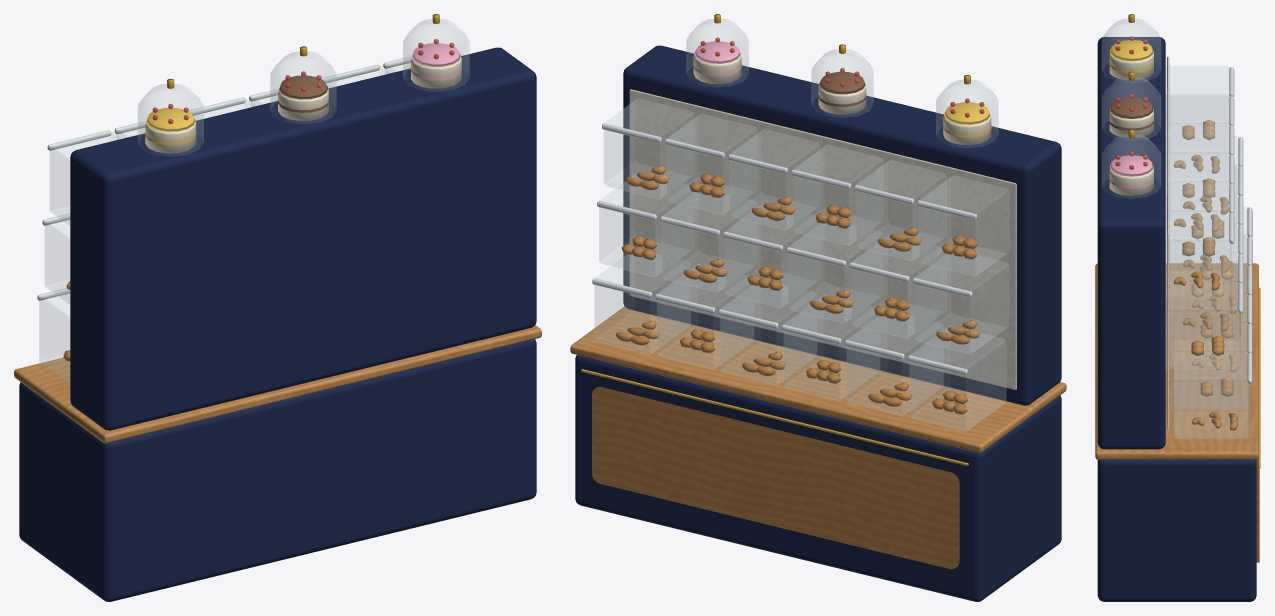
The model's file is bakery_T3.fbx.
The picture shows the model from 3 angles, left to right: view 1: azimuth 30°, elevation 25°; view 2: azimuth 150°, elevation 25°; view 3: azimuth 270°, elevation 25°; orthographic projection. The views are drawn at different scales.
Visible parts, largest first — view 1: Body; view 2: Body, Anim Fill 2, Anim Fill 1, Anim Fill 0, Anim Fill 3; view 3: Body, Anim Fill 1, Anim Fill 2, Anim Fill 0, Anim Fill 3.
Part boxes in pixels (box(x1,y1,x2,y2)): Body: box(14, 14, 541, 601); Body: box(570, 14, 1066, 601); Anim Fill 2: box(806, 205, 921, 406); Anim Fill 1: box(680, 174, 795, 375); Anim Fill 0: box(616, 165, 669, 345); Anim Fill 3: box(932, 235, 980, 414); Body: box(1095, 14, 1260, 601); Anim Fill 1: box(1174, 213, 1238, 396); Anim Fill 2: box(1174, 155, 1238, 338); Anim Fill 0: box(1173, 271, 1238, 430); Anim Fill 3: box(1182, 120, 1233, 280).
Size of the model in its own units: 1.98 by 2.12 by 0.727.
